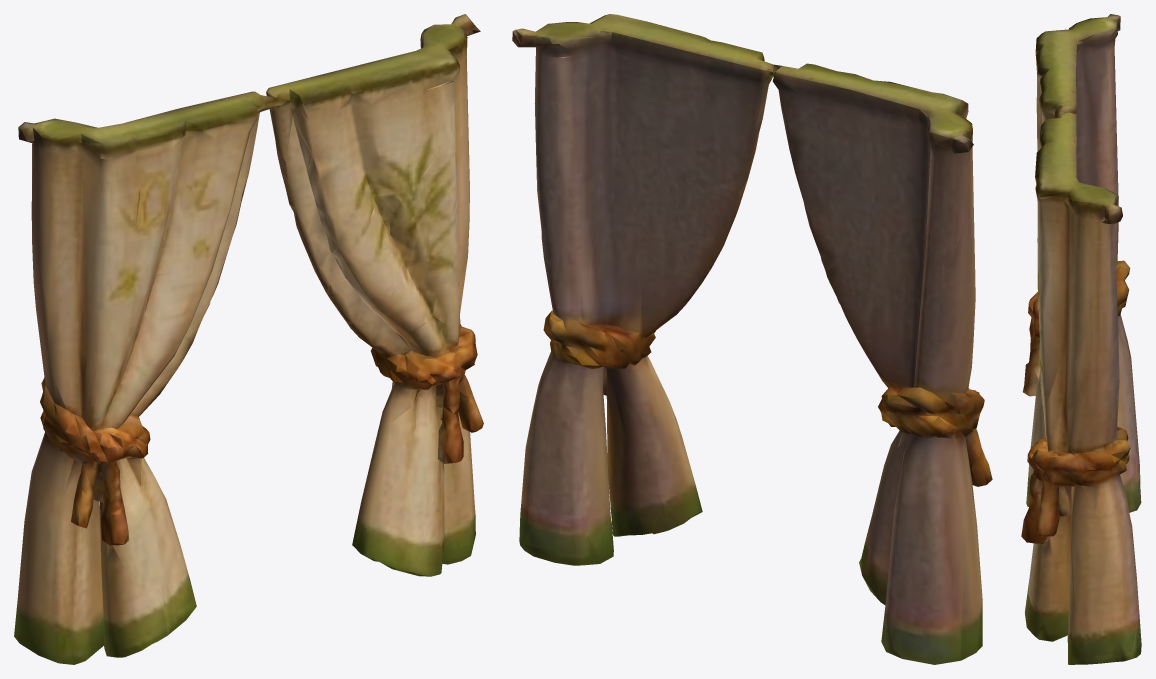
Rendered from curtain12.glb.
3 views of the same model, side by side, from view 1: azimuth 30°, elevation 25°; view 2: azimuth 150°, elevation 25°; view 3: azimuth 270°, elevation 25° (orthographic). The views are drawn at different scales.
Size of the model in its own units: 0.235 by 0.2586 by 0.0591.
Materials: 1 (1 with a texture image).
